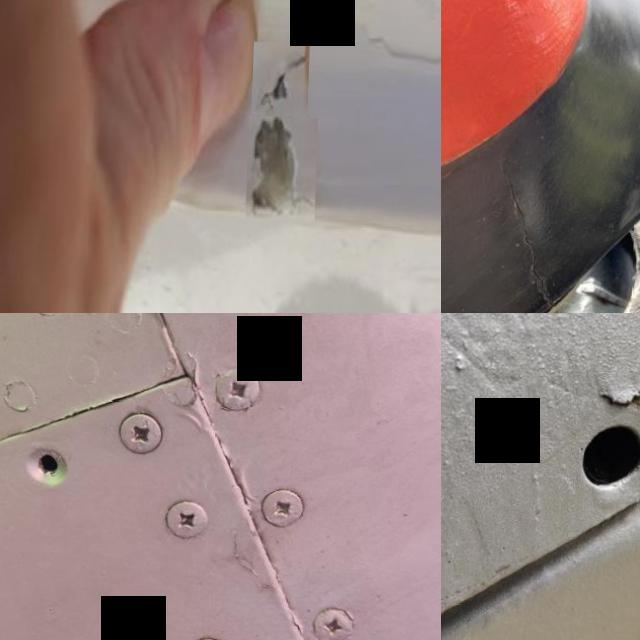Crack: (480, 146, 582, 313), (271, 0, 441, 65), (250, 114, 318, 217), (253, 40, 310, 112)
Missing_Fastener: (519, 353, 640, 545), (2, 422, 86, 504)
